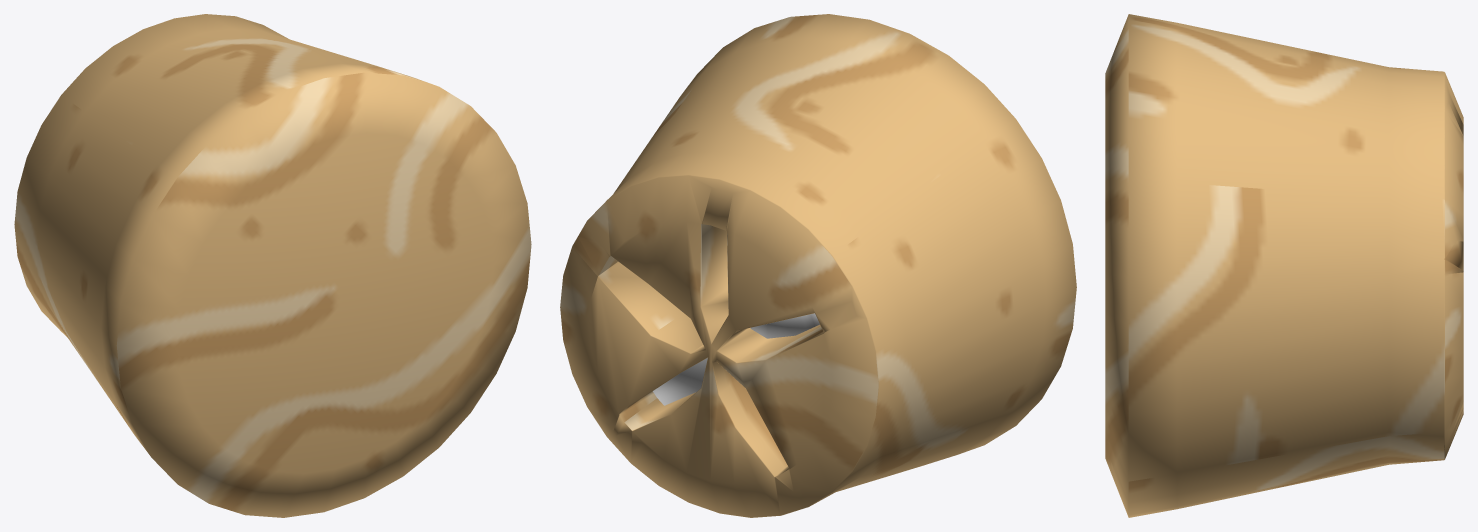
File: item-sand-dollar.glb
The picture shows the model from 3 angles, left to right: view 1: azimuth 30°, elevation 25°; view 2: azimuth 150°, elevation 25°; view 3: azimuth 270°, elevation 25°; orthographic projection. The views are drawn at different scales.
Bounding box in the file's own units: 2.36 × 2.36 × 1.68.
Materials: 2 (2 with a texture image).
